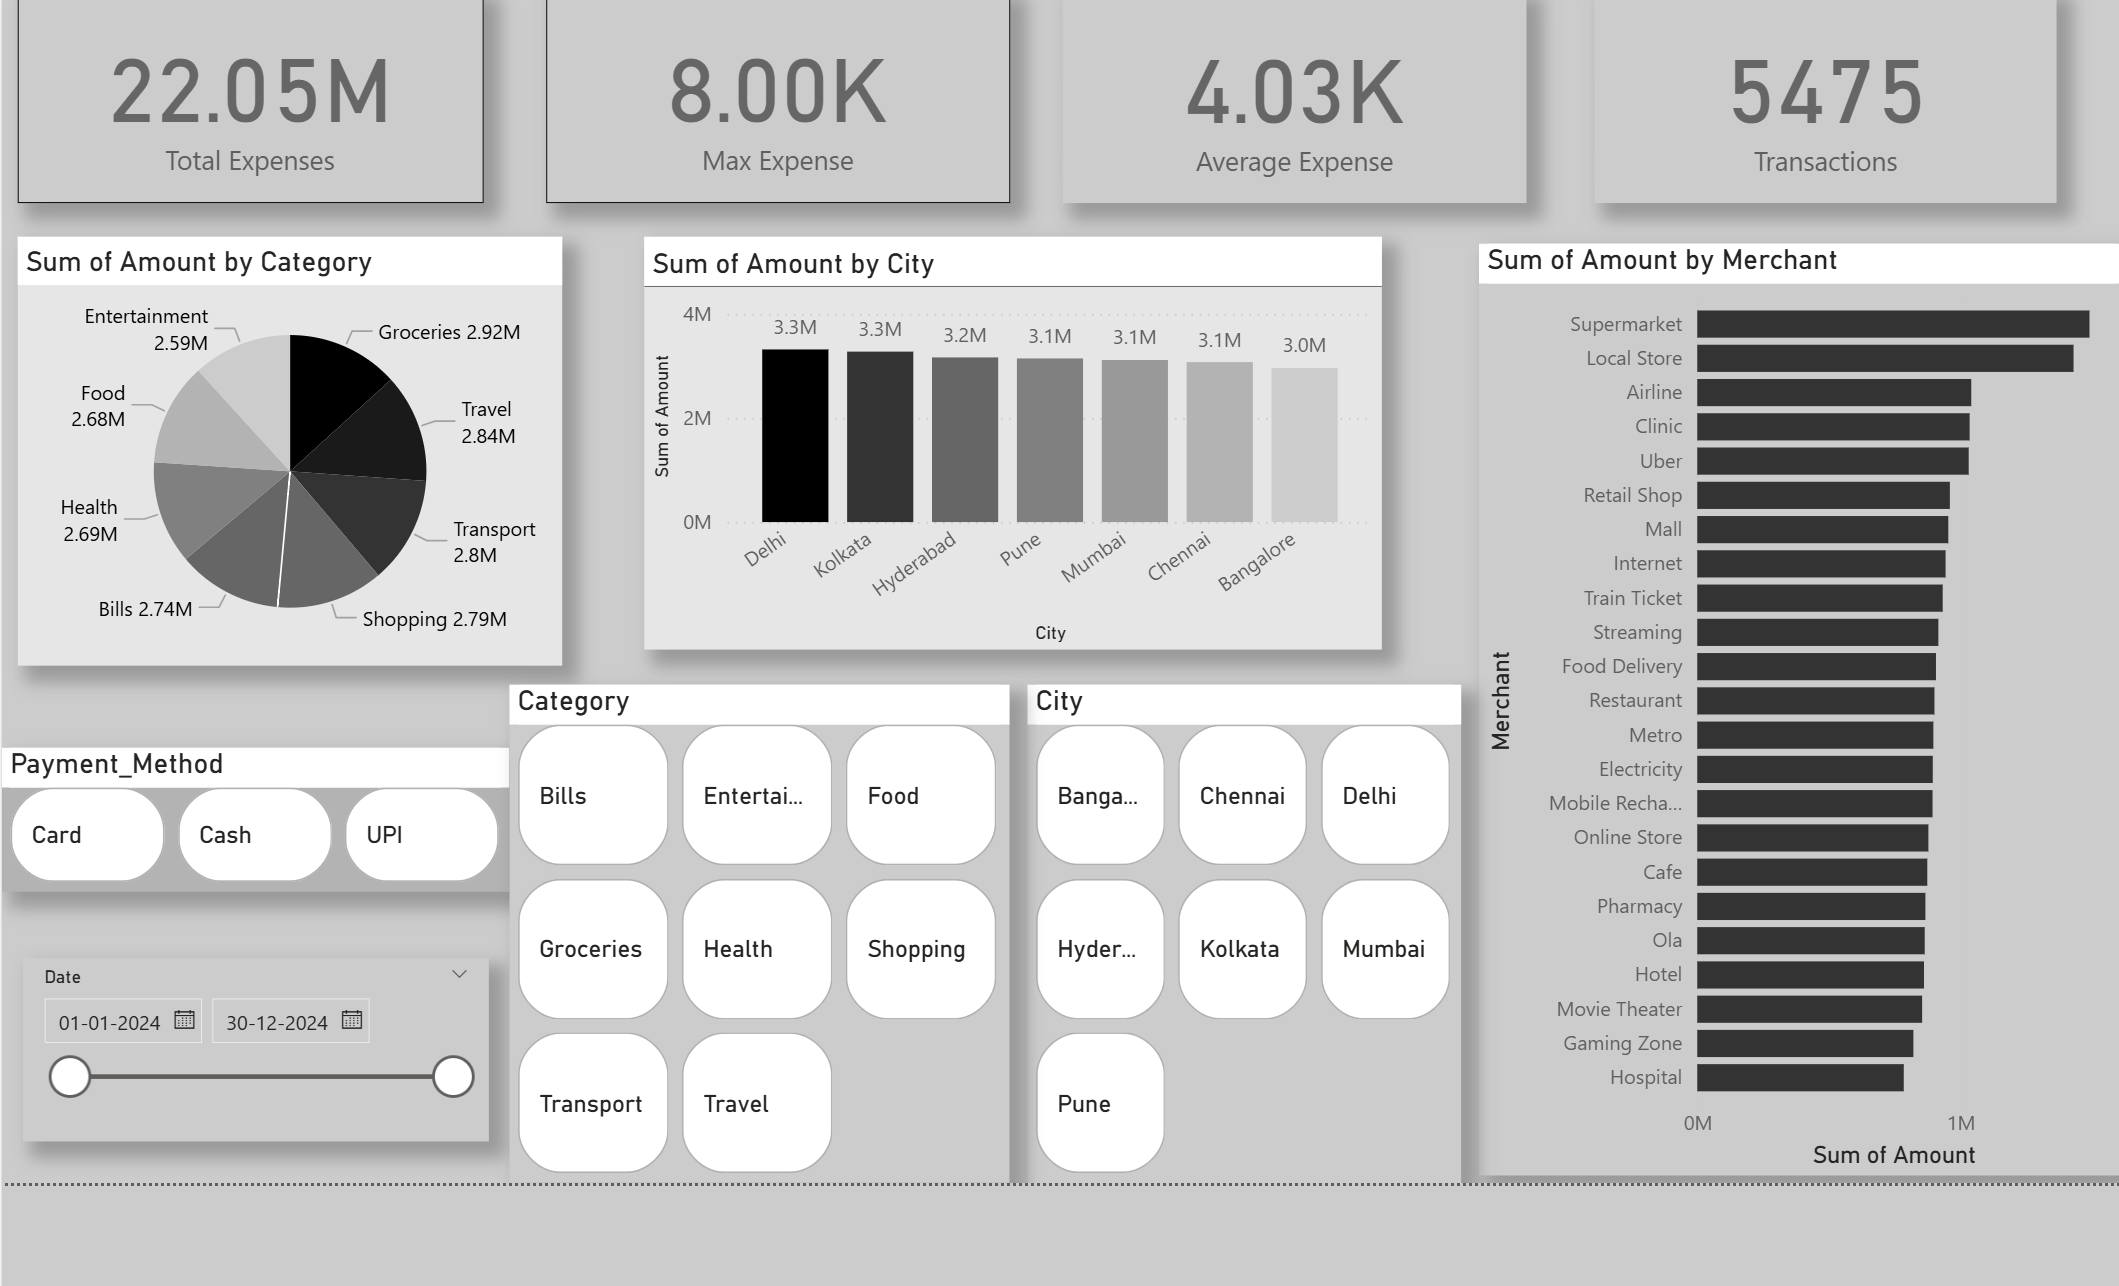

Layout of this report page (visuals, bound fields, positions):
{"tool":"powerbi","page":{"name":"Page 1","canvas":[1280,720],"ordinal":0},"visuals":[{"type":"card","fields":{"Values":["Expenses.Total Expenses"]},"box":[9.5,0,280.9,128.8],"z":0},{"type":"card","fields":{"Values":["Expenses.Average Expense"]},"box":[640,0,279.9,128.8],"z":1000},{"type":"card","fields":{"Values":["Expenses.Transactions"]},"box":[961.1,0,278.8,128.8],"z":2000},{"type":"card","fields":{"Values":["Expenses.Max Expense"]},"box":[328.4,0,279.9,128.8],"z":3000},{"type":"pieChart","fields":{"Category":["Expenses.Category"],"Y":["Sum(Expenses.Amount)"]},"box":[9.5,148.9,328.4,258.7],"z":4000},{"type":"columnChart","fields":{"Category":["Expenses.City"],"Y":["Sum(Expenses.Amount)"]},"box":[387.6,148.9,444.9,249.2],"z":5000},{"type":"clusteredBarChart","fields":{"Category":["Expenses.Merchant"],"Y":["Sum(Expenses.Amount)"]},"box":[891.7,152.8,388.6,562.3],"z":6000},{"type":"slicer","fields":{"Values":["Expenses.Date"]},"box":[12.7,584,280.9,110.9],"z":7000},{"type":"advancedSlicerVisual","fields":{"Values":["Expenses.City"]},"box":[618.9,419.3,261.9,301],"z":8000},{"type":"advancedSlicerVisual","fields":{"Values":["Expenses.Payment_Method"]},"box":[0,457.3,306.3,86.6],"z":9000},{"type":"advancedSlicerVisual","fields":{"Values":["Expenses.Category"]},"box":[306.5,419.1,301.7,300.7],"z":10000}]}

Visuals, with their boxes on the page's 1280x720 design canvas (x1, y1, x2, y2). These are canvas units, not pixel positions in the 2119x1286 screenshot, which may show the page scaled, cropped or inside an application window:
card - Expenses.Total Expenses: x1=10, y1=0, x2=290, y2=129
card - Expenses.Average Expense: x1=640, y1=0, x2=920, y2=129
card - Expenses.Transactions: x1=961, y1=0, x2=1240, y2=129
card - Expenses.Max Expense: x1=328, y1=0, x2=608, y2=129
pieChart - Expenses.Category x Sum(Expenses.Amount): x1=10, y1=149, x2=338, y2=408
columnChart - Expenses.City x Sum(Expenses.Amount): x1=388, y1=149, x2=832, y2=398
clusteredBarChart - Expenses.Merchant x Sum(Expenses.Amount): x1=892, y1=153, x2=1280, y2=715
slicer - Expenses.Date: x1=13, y1=584, x2=294, y2=695
advancedSlicerVisual - Expenses.City: x1=619, y1=419, x2=881, y2=720
advancedSlicerVisual - Expenses.Payment_Method: x1=0, y1=457, x2=306, y2=544
advancedSlicerVisual - Expenses.Category: x1=306, y1=419, x2=608, y2=720
